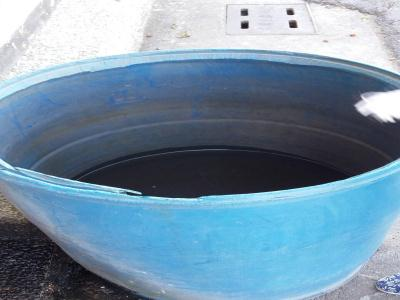bowl: (1, 44, 400, 299)
